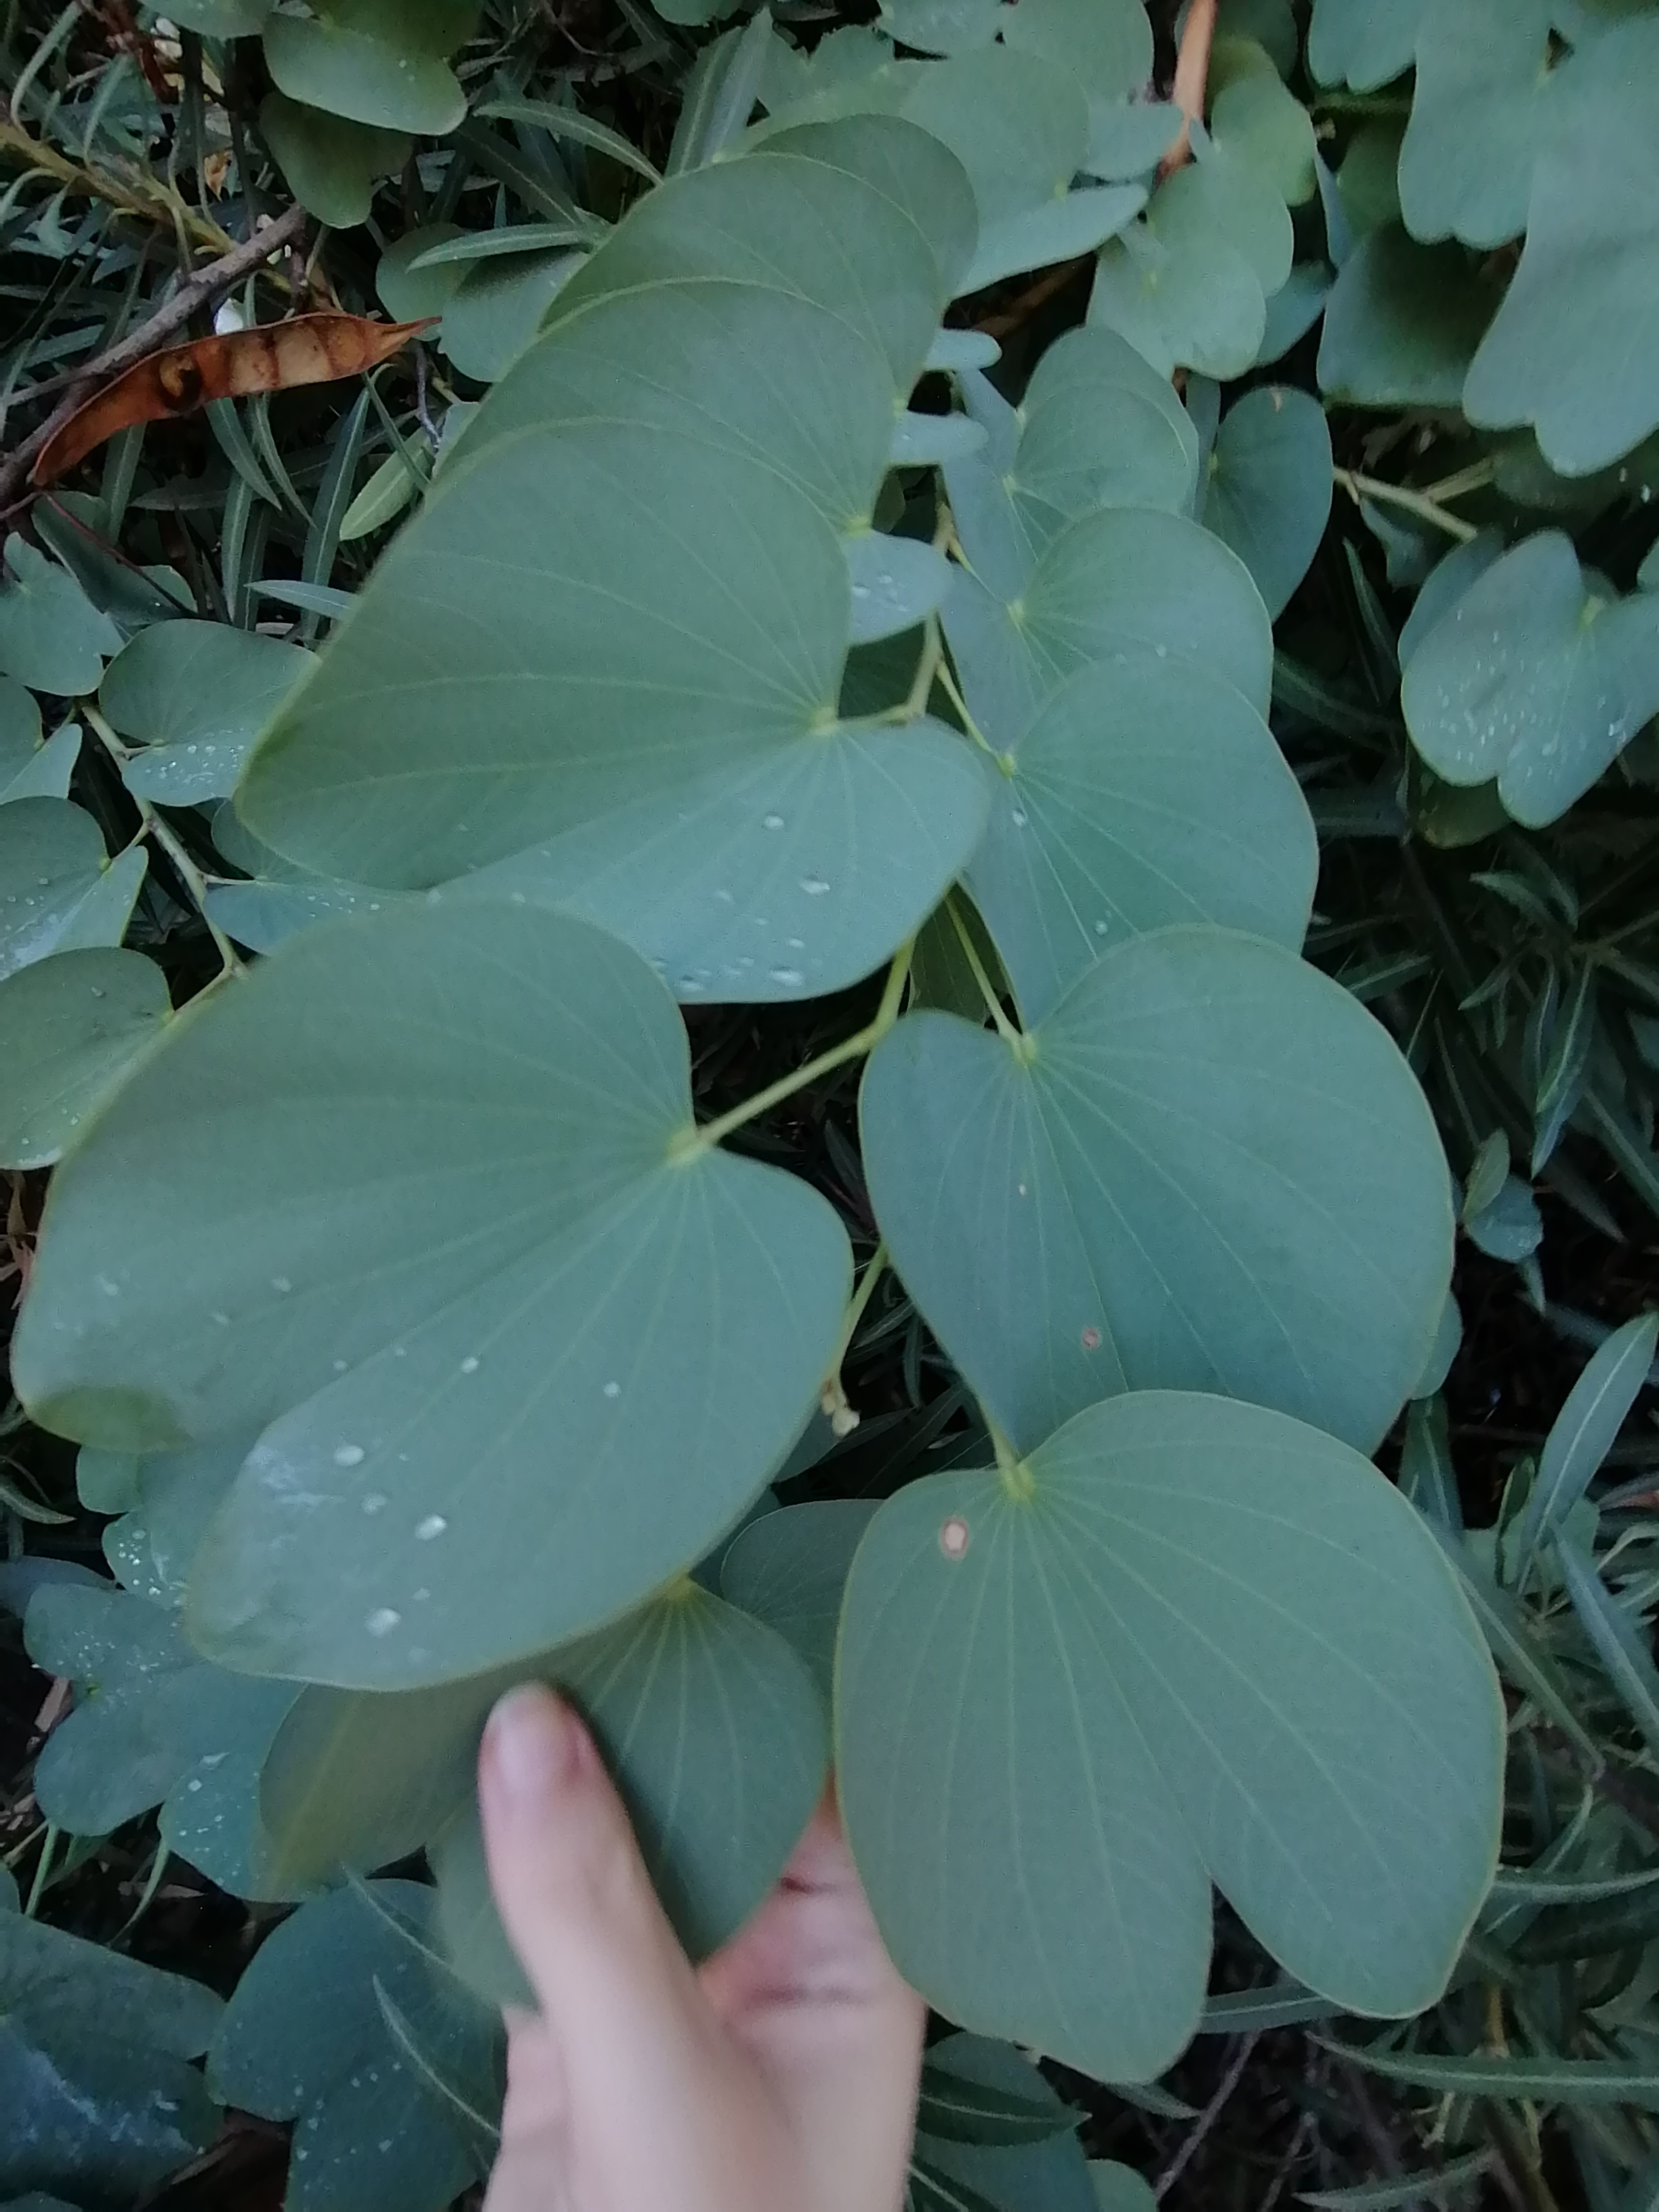healthy: (73, 904, 828, 1649), (235, 418, 918, 1014), (826, 1446, 1476, 2012), (859, 941, 1429, 1463), (924, 681, 1326, 1045), (1401, 491, 1642, 813), (993, 514, 1262, 763), (1053, 237, 1286, 380)
